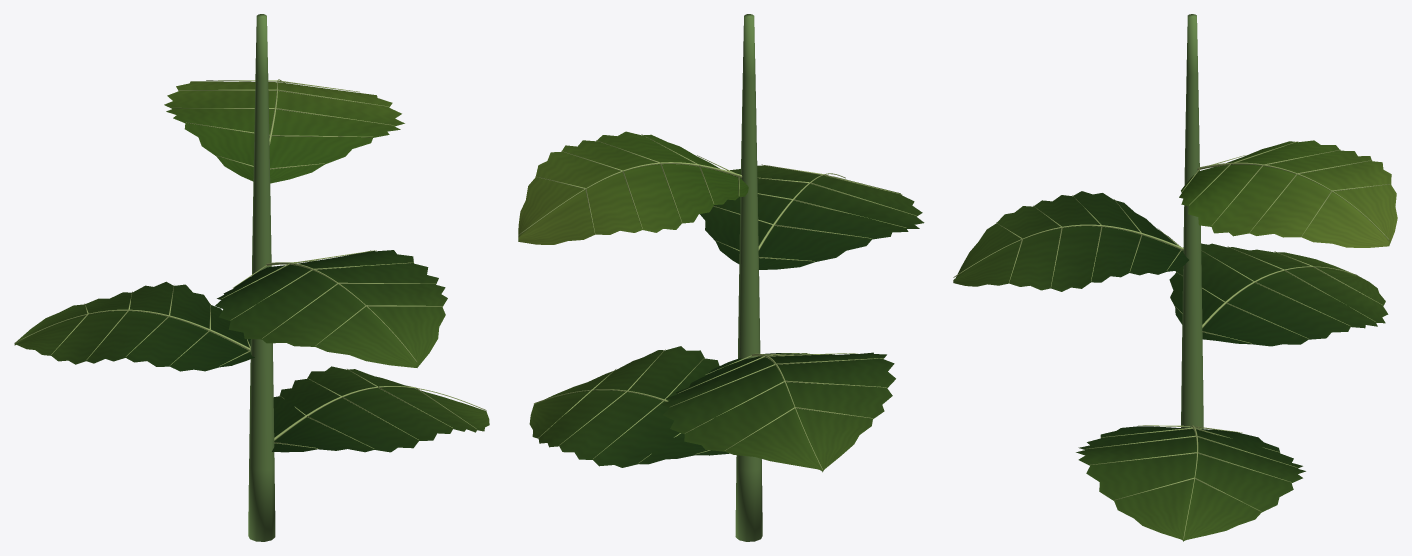
Rendered from hydrangea-04.glb.
The picture shows the model from 3 angles, left to right: view 1: azimuth 30°, elevation 25°; view 2: azimuth 150°, elevation 25°; view 3: azimuth 270°, elevation 25°; orthographic projection. The views are drawn at different scales.
Parts seen in each view (by area): view 1: hydrangea_stage_04_leaf_veins.006, hydrangea_stage_04_young_leaf.006, hydrangea_stage_04_stem_fibres.006, hydrangea_stage_04_raised_midveins.006; view 2: hydrangea_stage_04_leaf_veins.006, hydrangea_stage_04_young_leaf.006, hydrangea_stage_04_stem_fibres.006, hydrangea_stage_04_raised_midveins.006; view 3: hydrangea_stage_04_leaf_veins.006, hydrangea_stage_04_young_leaf.006, hydrangea_stage_04_stem_fibres.006, hydrangea_stage_04_raised_midveins.006.
Boxes of the visible parts, x1,y1,x2,y2 form: hydrangea_stage_04_leaf_veins.006: [14, 250, 489, 452]; hydrangea_stage_04_young_leaf.006: [164, 81, 404, 183]; hydrangea_stage_04_stem_fibres.006: [248, 14, 275, 541]; hydrangea_stage_04_raised_midveins.006: [14, 79, 486, 448]; hydrangea_stage_04_leaf_veins.006: [529, 165, 924, 472]; hydrangea_stage_04_young_leaf.006: [518, 131, 748, 244]; hydrangea_stage_04_stem_fibres.006: [735, 14, 762, 541]; hydrangea_stage_04_raised_midveins.006: [518, 134, 916, 469]; hydrangea_stage_04_leaf_veins.006: [953, 191, 1388, 541]; hydrangea_stage_04_young_leaf.006: [1179, 140, 1397, 247]; hydrangea_stage_04_stem_fibres.006: [1181, 14, 1203, 429]; hydrangea_stage_04_raised_midveins.006: [953, 141, 1390, 539].
Bounding box in the file's own units: 0.1317 × 0.1673 × 0.1366.
Materials: 4 (2 with a texture image).
